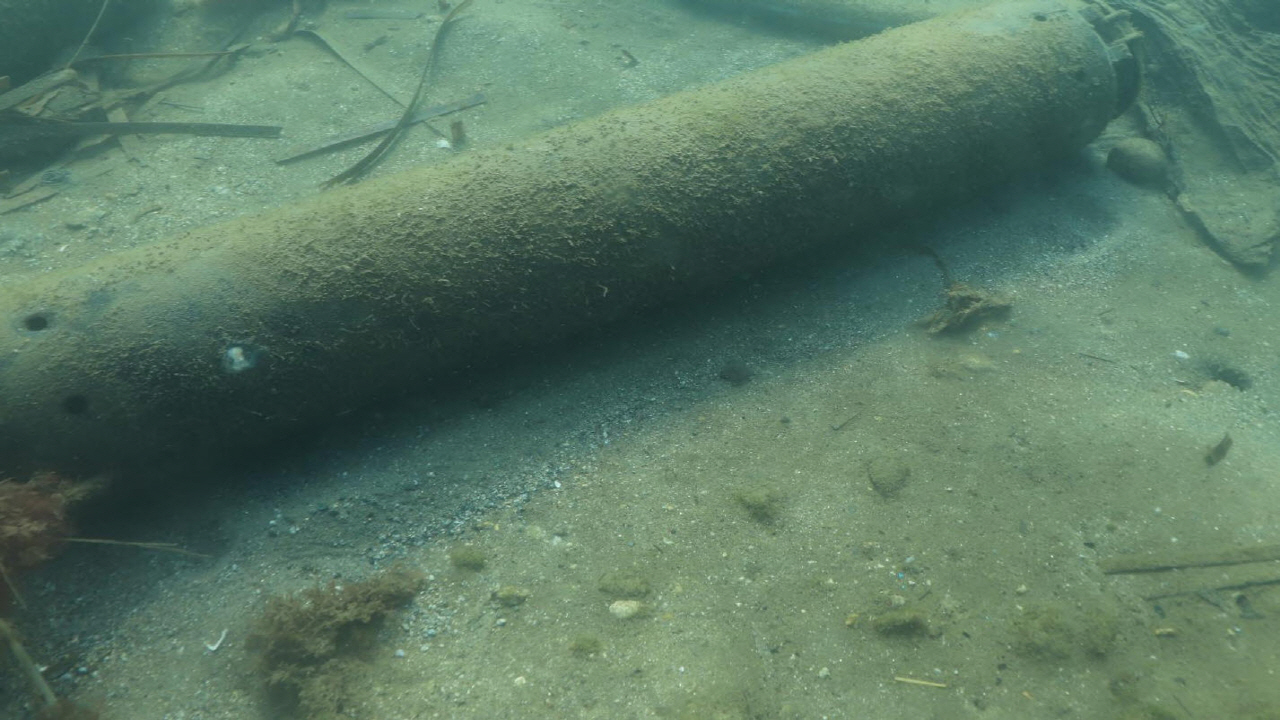eel fish trap: (0, 0, 1140, 516)
